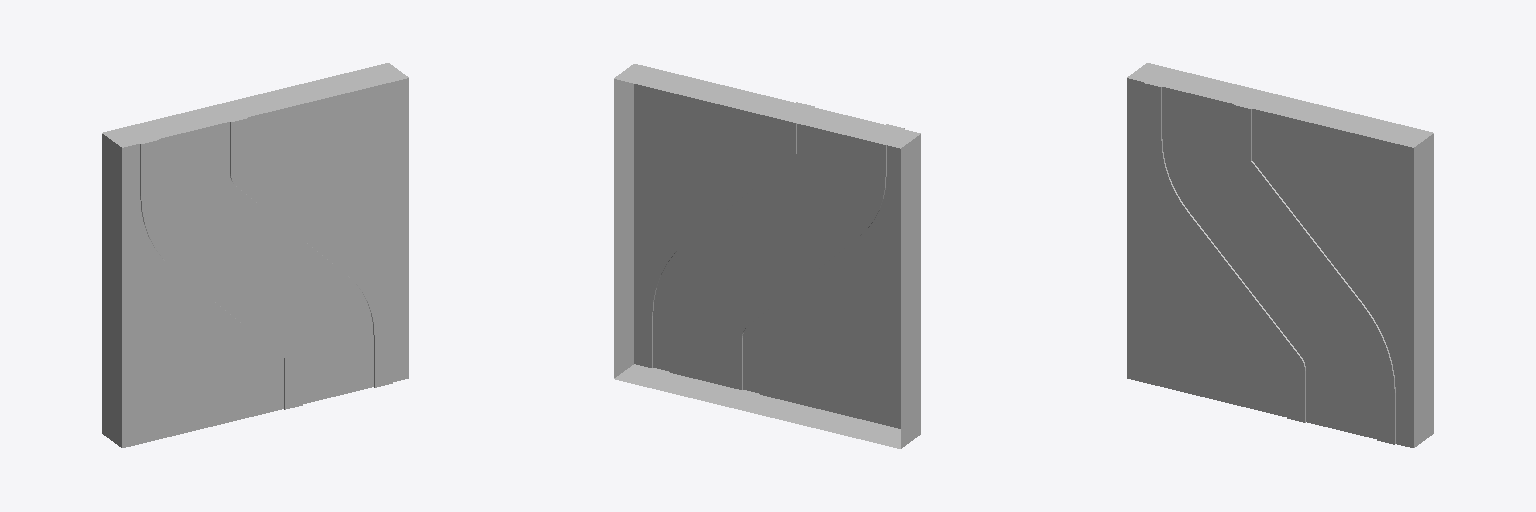
The model's file is track_left_right_large.obj.
3 renders of one model, left to right at view 1: azimuth 30°, elevation 25°; view 2: azimuth 150°, elevation 25°; view 3: azimuth 330°, elevation 25°, orthographic.
Visible parts, largest first — view 1: track-right-left-large_Cube.849; view 2: track-right-left-large_Cube.849; view 3: track-right-left-large_Cube.849.
Boxes of the visible parts, <box> form: track-right-left-large_Cube.849: <box>102,63,408,447</box>; track-right-left-large_Cube.849: <box>614,64,920,448</box>; track-right-left-large_Cube.849: <box>1127,63,1433,447</box>.
Size of the model in its own units: 16 by 16 by 2.1.